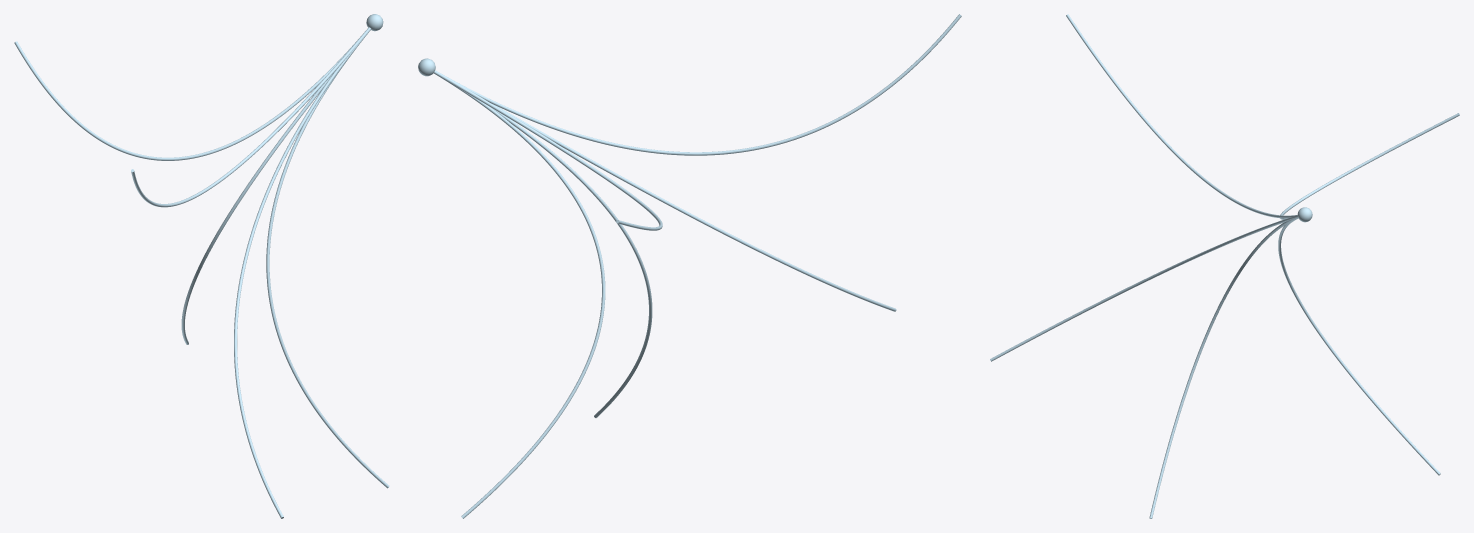
3 views of the same model, side by side, from view 1: azimuth 30°, elevation 25°; view 2: azimuth 150°, elevation 25°; view 3: azimuth 270°, elevation 25° (orthographic). The views are drawn at different scales.
Parts seen in each view (by area): view 1: 5; view 2: 5; view 3: 5.
Boxes of the visible parts, left/top/right/bottom form: 5: left=14, top=14, right=389, bottom=518; 5: left=418, top=14, right=961, bottom=518; 5: left=990, top=14, right=1459, bottom=518.
Bounding box in the file's own units: 13.31 × 14.07 × 15.96.
